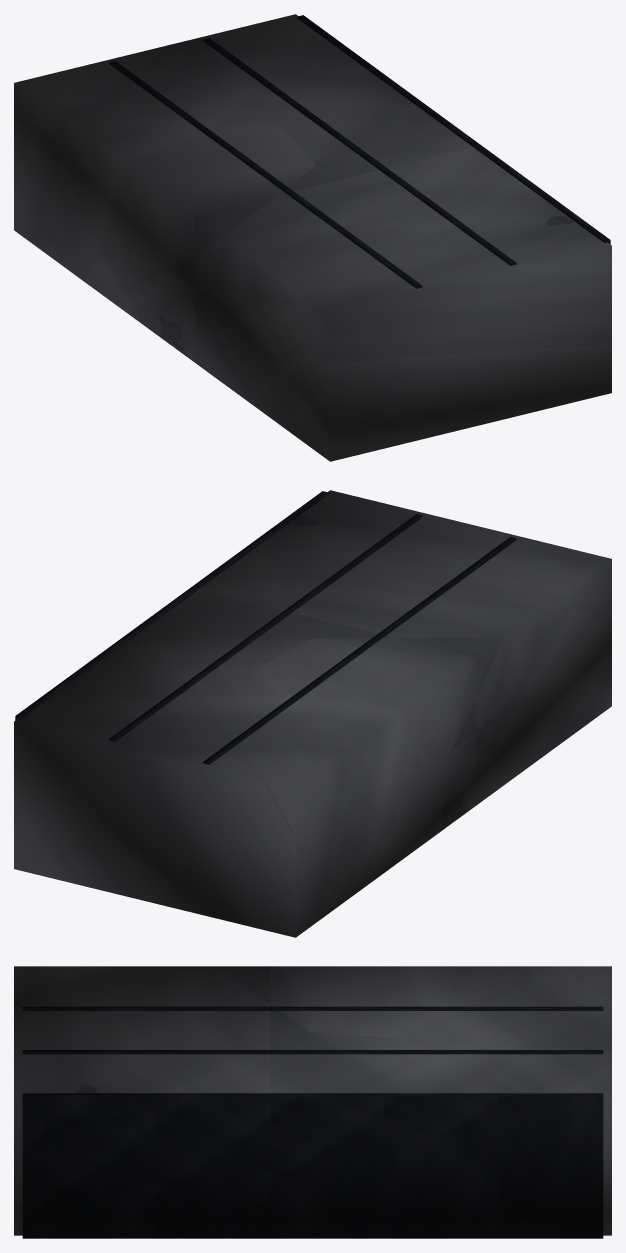
Rendered from LOCKER_001.glb.
3 renders of one model, top to bottom at view 1: azimuth 30°, elevation 25°; view 2: azimuth 150°, elevation 25°; view 3: azimuth 270°, elevation 25°, orthographic. The views are drawn at different scales.
Visible parts, largest first — view 1: locker_body_000, divider_011, divider_001, divider_006; view 2: locker_body_000, divider_011, divider_001, divider_006; view 3: divider_011, locker_body_000, divider_001, divider_006.
Boxes of the visible parts, x1,y1,x2,y2 form: locker_body_000: [14, 14, 611, 461]; divider_011: [297, 15, 610, 244]; divider_001: [109, 61, 422, 288]; divider_006: [203, 38, 516, 265]; locker_body_000: [14, 490, 611, 937]; divider_011: [15, 491, 328, 720]; divider_001: [203, 537, 516, 764]; divider_006: [109, 514, 422, 741]; divider_011: [22, 1093, 603, 1238]; locker_body_000: [14, 966, 611, 1235]; divider_001: [22, 1006, 603, 1010]; divider_006: [22, 1050, 603, 1054].
Size of the model in its own units: 0.91 by 0.471 by 1.75.
Materials: 3 (3 with a texture image).
